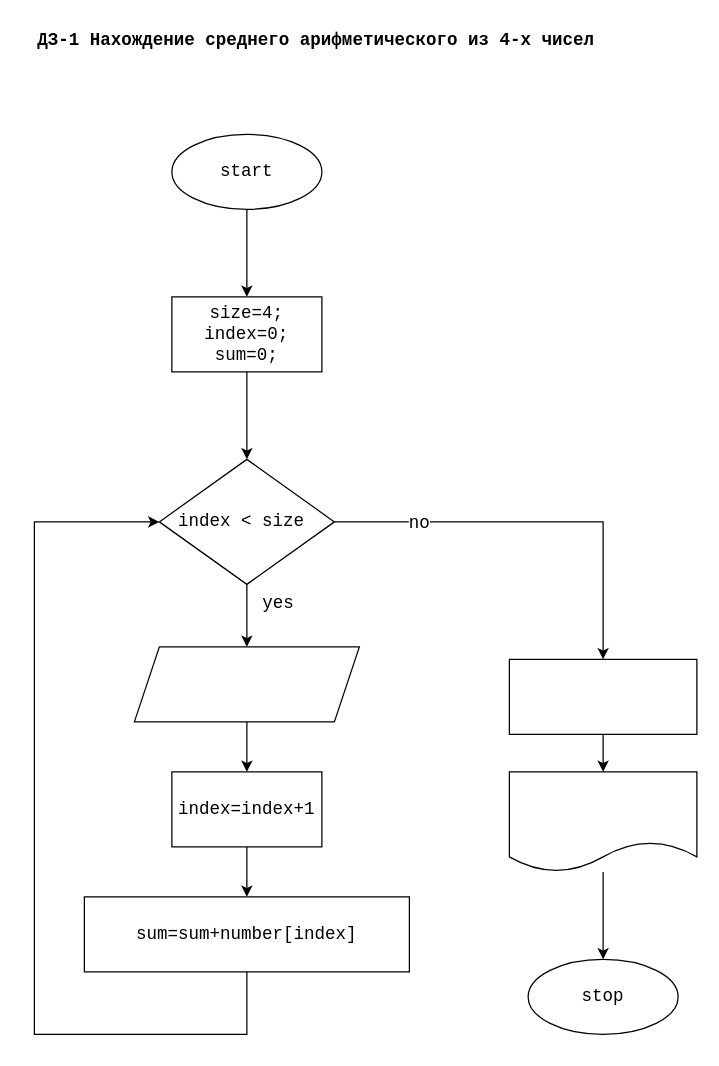
This 719x1066 diagram has some shape labels left out. Each missing label, with the centre of its shape:
average number=sum/size: the point at 602,696
number = a,b,c,d: the point at 246,684
print = average number: the point at 602,821
